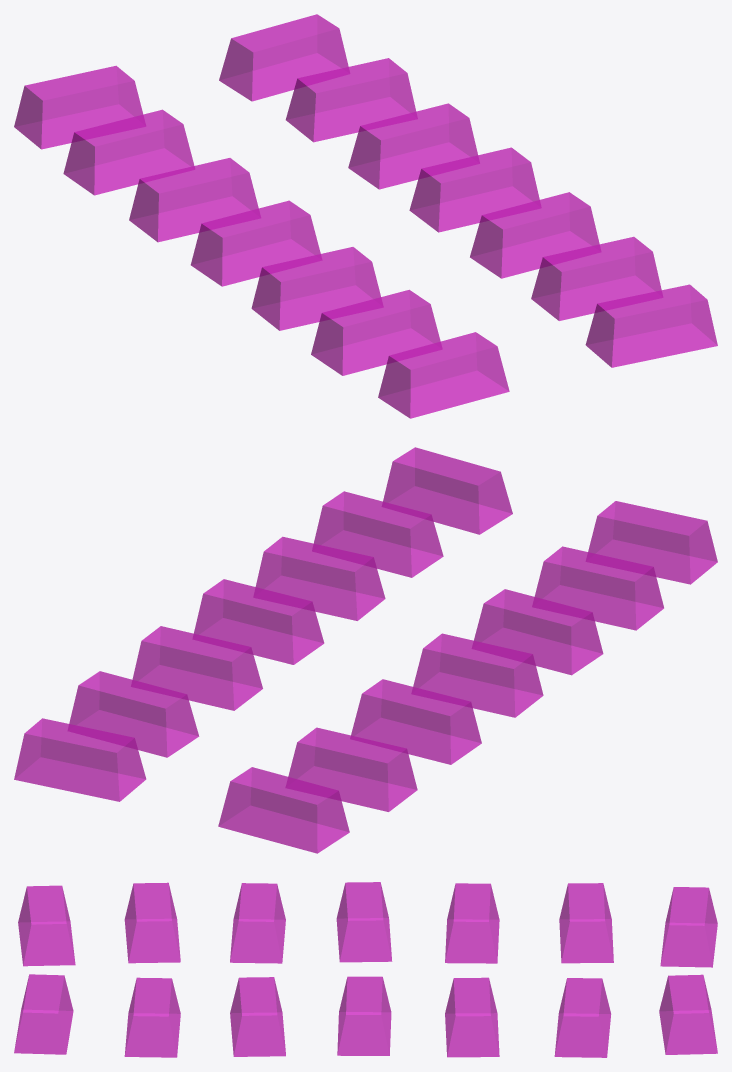
File: SM_Veh_Boat_Medium_01_Chests_01_Collision.fbx
3 views of the same model, one above another, from view 1: azimuth 30°, elevation 25°; view 2: azimuth 150°, elevation 25°; view 3: azimuth 270°, elevation 25° (orthographic). The views are drawn at different scales.
Parts seen in each view (by area): view 1: SM_Veh_Boat_Medium_01_Chests_01_Collision; view 2: SM_Veh_Boat_Medium_01_Chests_01_Collision; view 3: SM_Veh_Boat_Medium_01_Chests_01_Collision.
Part boxes in pixels (x1,y1,x2,y2): SM_Veh_Boat_Medium_01_Chests_01_Collision: (14, 14, 717, 418); SM_Veh_Boat_Medium_01_Chests_01_Collision: (14, 447, 717, 853); SM_Veh_Boat_Medium_01_Chests_01_Collision: (14, 882, 717, 1057).
Bounding box in the file's own units: 362 × 48.21 × 775.
